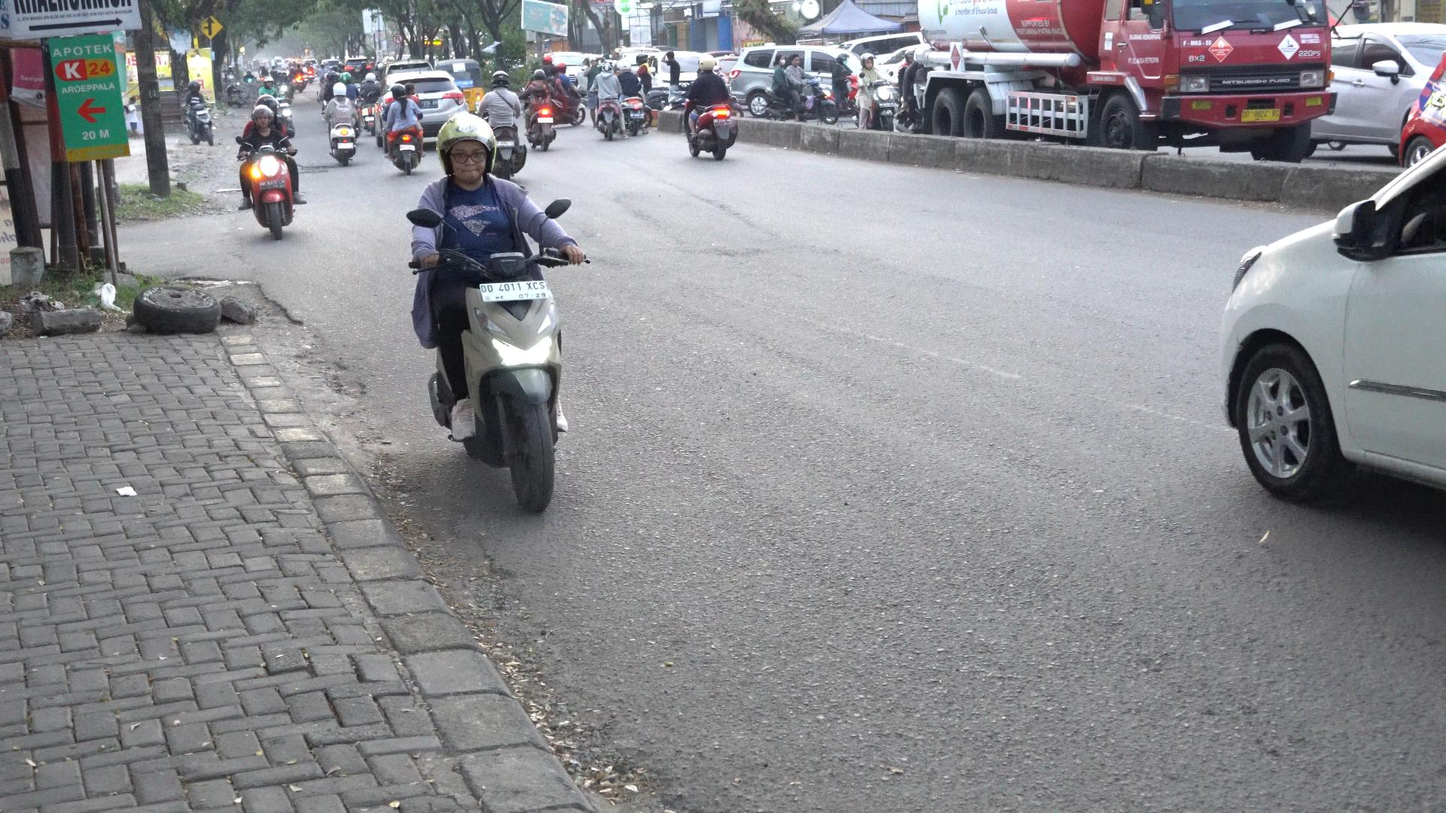number-plate: (480, 278, 551, 303)
